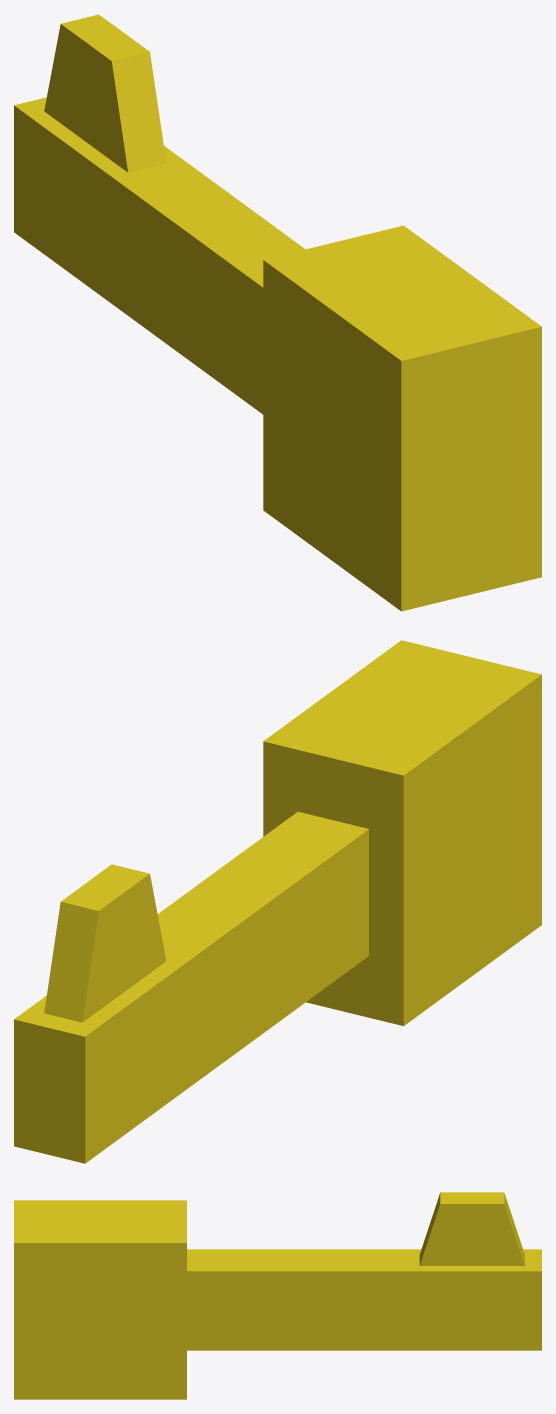
File: Key 1.fbx
3 views of the same model, one above another, from view 1: azimuth 30°, elevation 25°; view 2: azimuth 150°, elevation 25°; view 3: azimuth 270°, elevation 25° (orthographic). The views are drawn at different scales.
Visible parts, largest first — view 1: Cube; view 2: Cube; view 3: Cube.
Boxes of the visible parts, x1,y1,x2,y2 form: Cube: (14, 14, 541, 611); Cube: (14, 640, 541, 1163); Cube: (14, 1192, 541, 1399).
Size of the model in its own units: 117 by 230 by 611.
